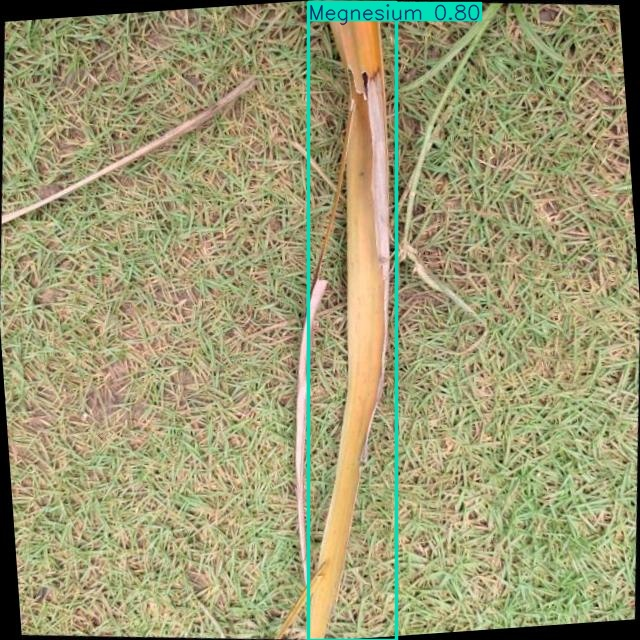Megnesium: (309, 2, 396, 640)
